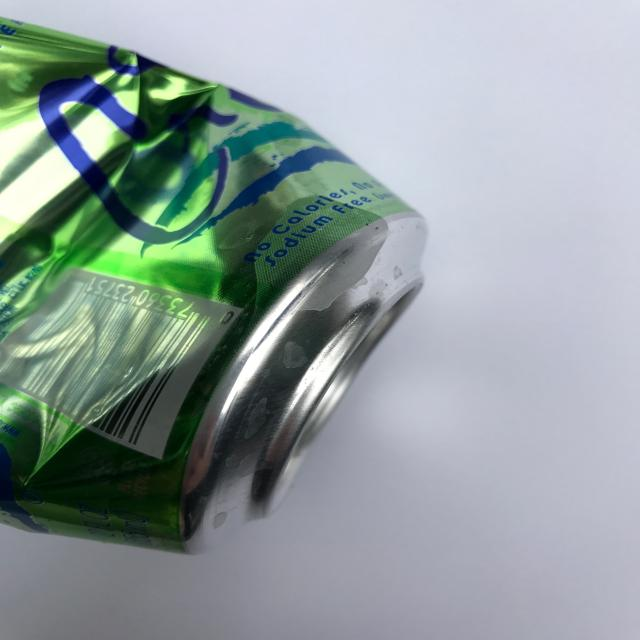metal: (1, 16, 429, 555)
